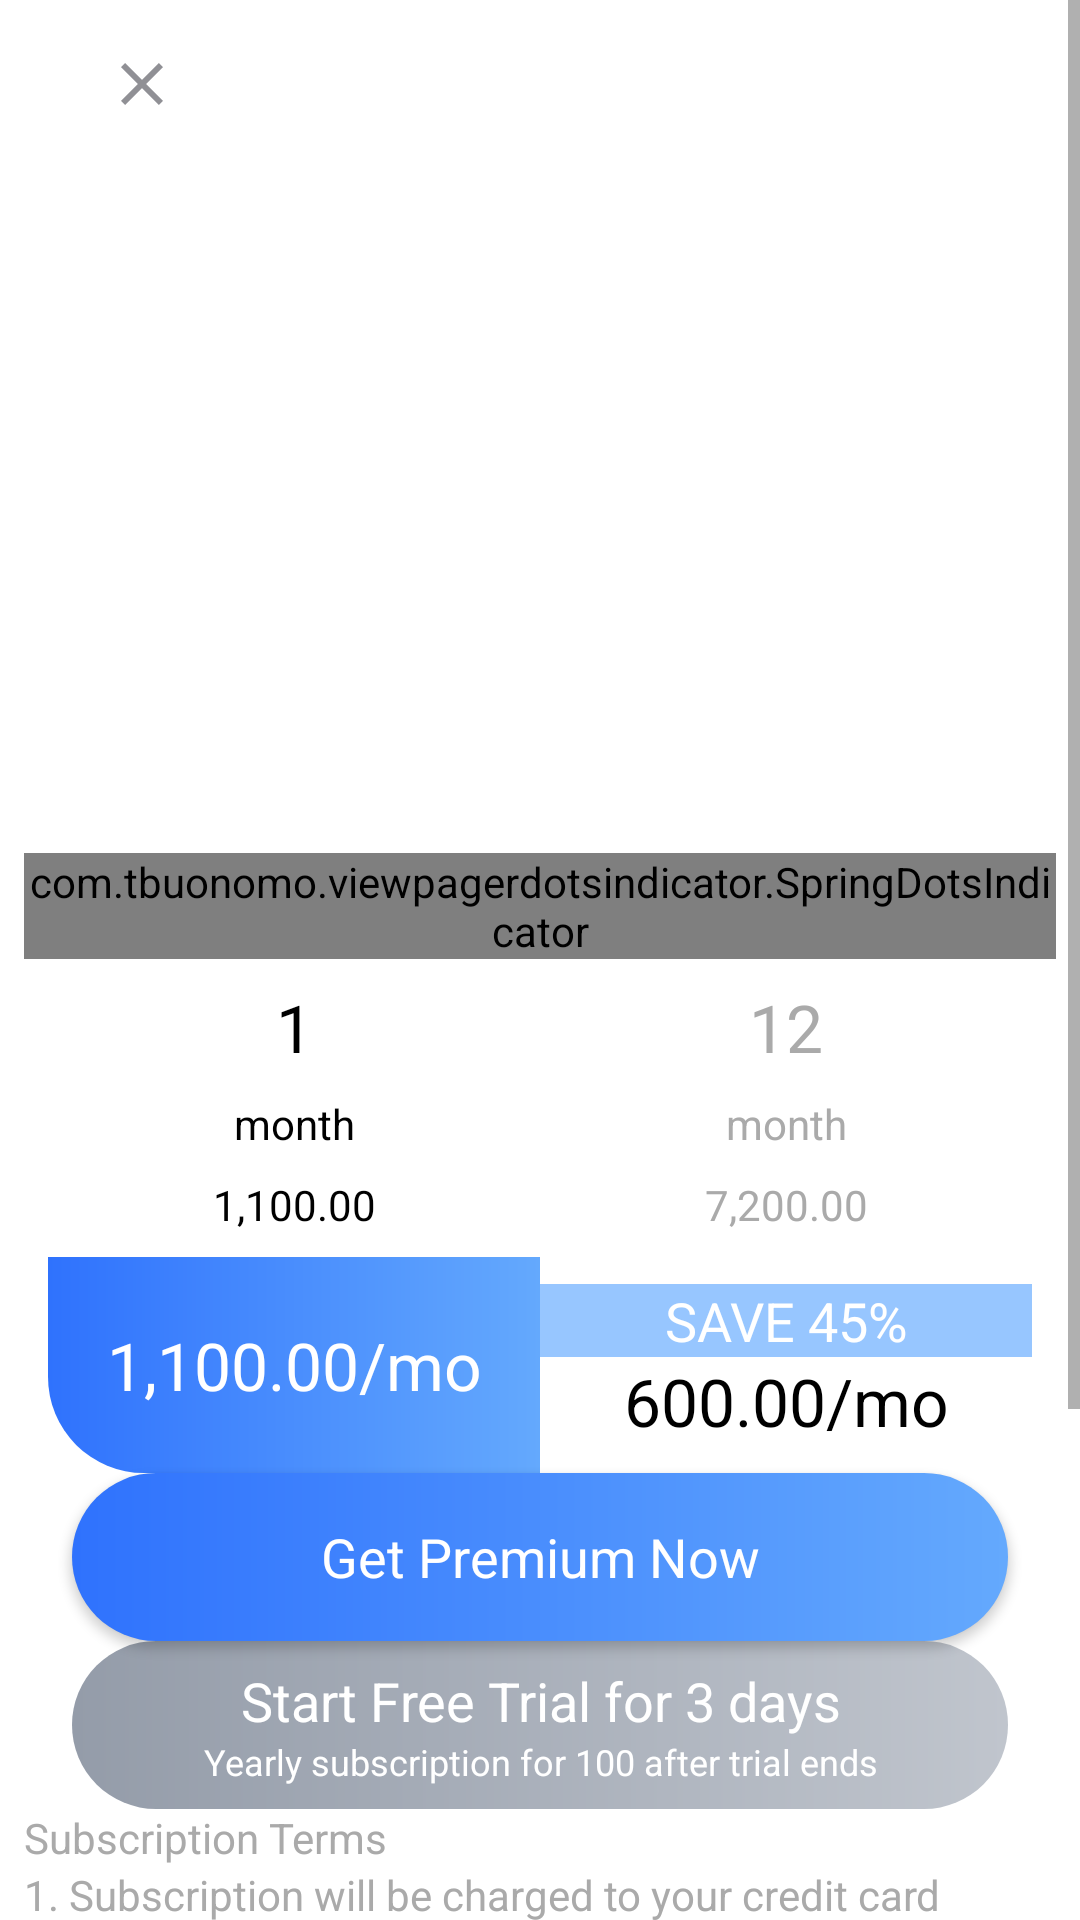

Where to tap for icons on this 1080*1920 app screen, as [x,y]:
close: [142,84]
